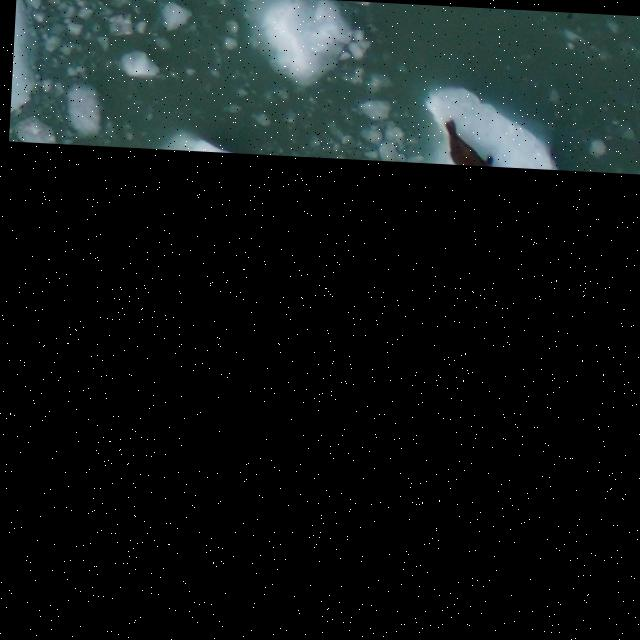seal: (438, 118, 502, 166)
